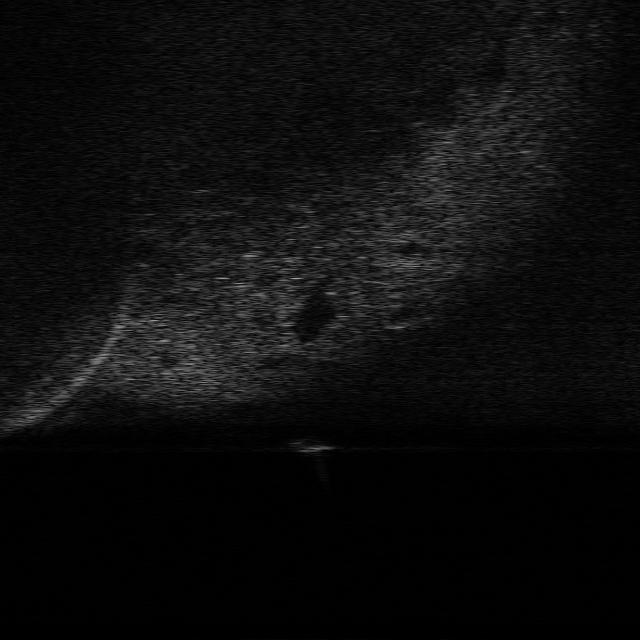cube: (288, 434, 338, 458)
